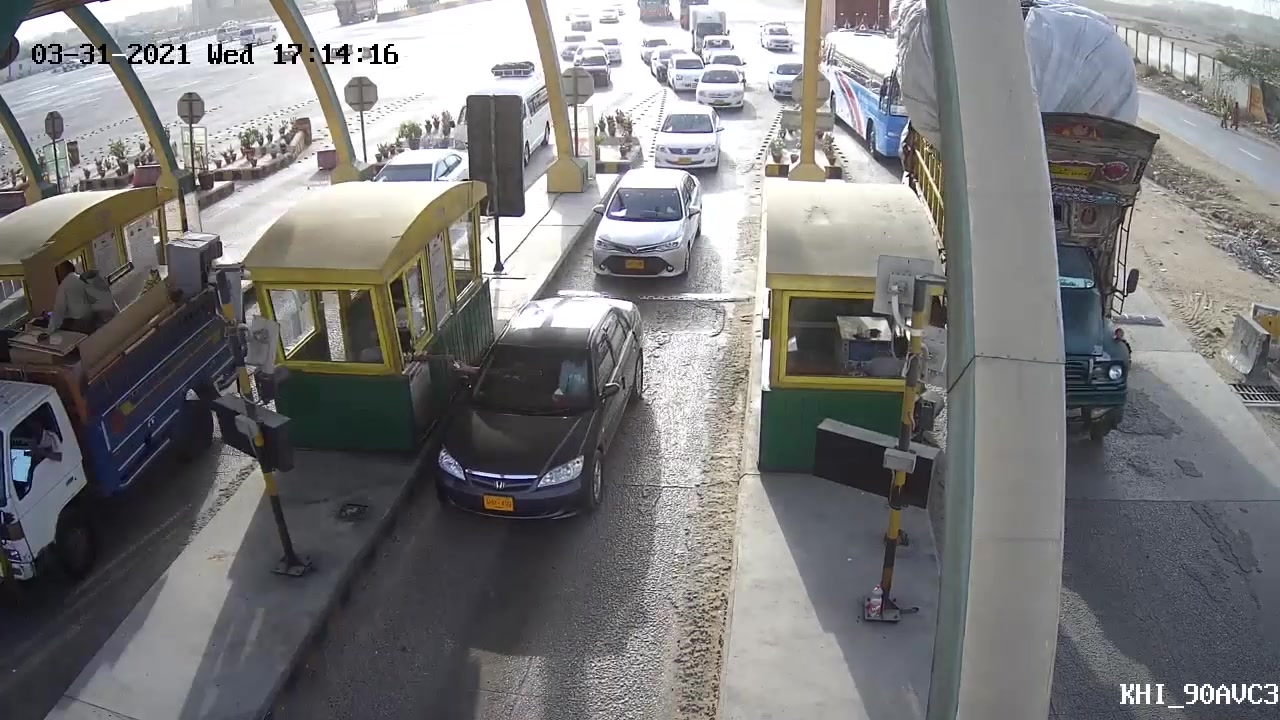F1: (416, 288, 647, 526), (594, 157, 705, 283)
